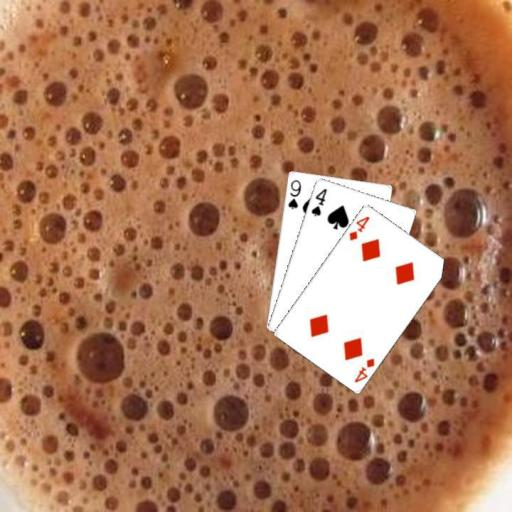4D: (351, 354, 376, 384), (346, 213, 371, 242)
4S: (308, 185, 328, 217)
9S: (285, 177, 303, 211)
